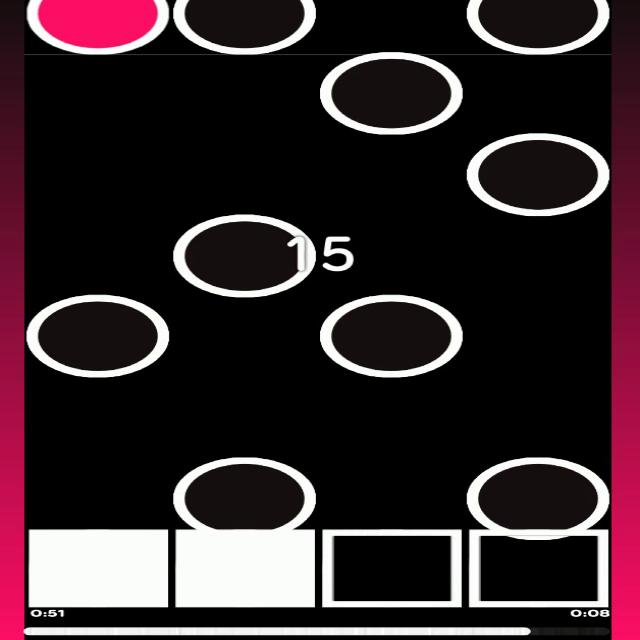note: (318, 293, 468, 378), (317, 52, 466, 136), (463, 132, 610, 217), (26, 293, 172, 378), (173, 213, 319, 297), (467, 456, 607, 540), (172, 456, 316, 530), (469, 0, 611, 57), (172, 0, 319, 53)
start_hold: (28, 0, 169, 55)
